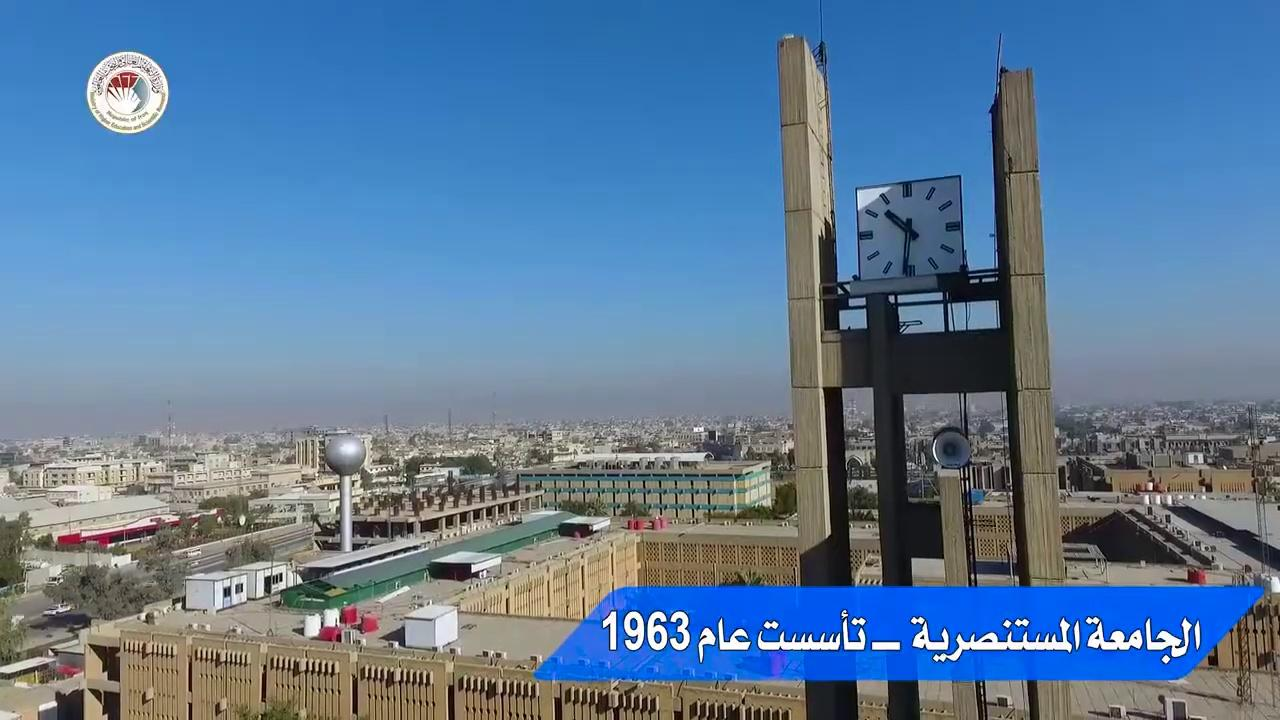car: (42, 602, 73, 616), (55, 664, 83, 678)
tree: (42, 560, 166, 620), (137, 548, 192, 602), (0, 509, 33, 586), (0, 595, 26, 663), (223, 535, 271, 569), (847, 484, 877, 522), (617, 497, 651, 529)
